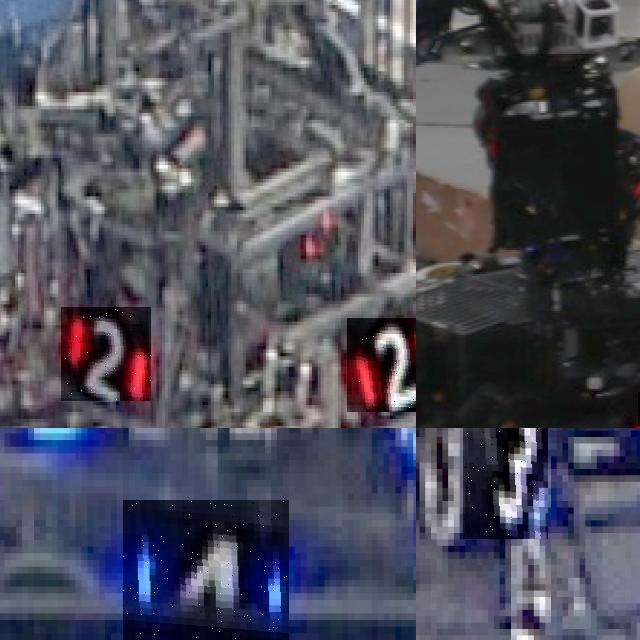B4: (123, 499, 289, 640)
R2: (61, 308, 151, 402), (346, 318, 416, 412)
R3: (462, 428, 548, 539)
